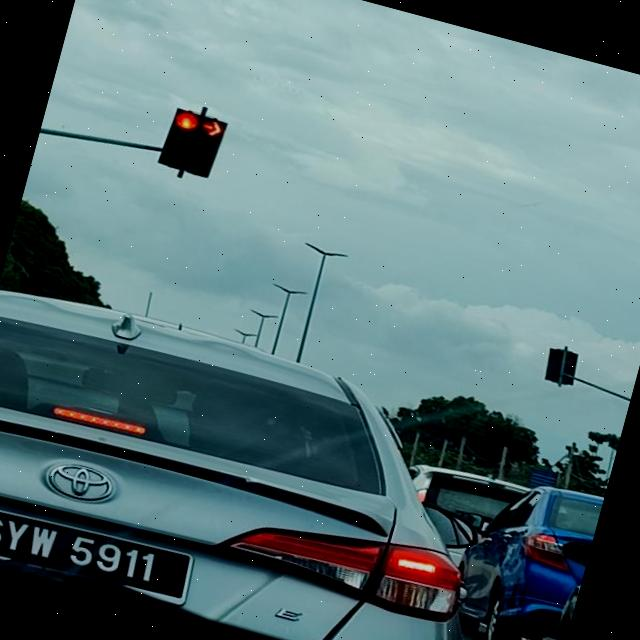red_light: (157, 106, 203, 172), (185, 116, 227, 180)
